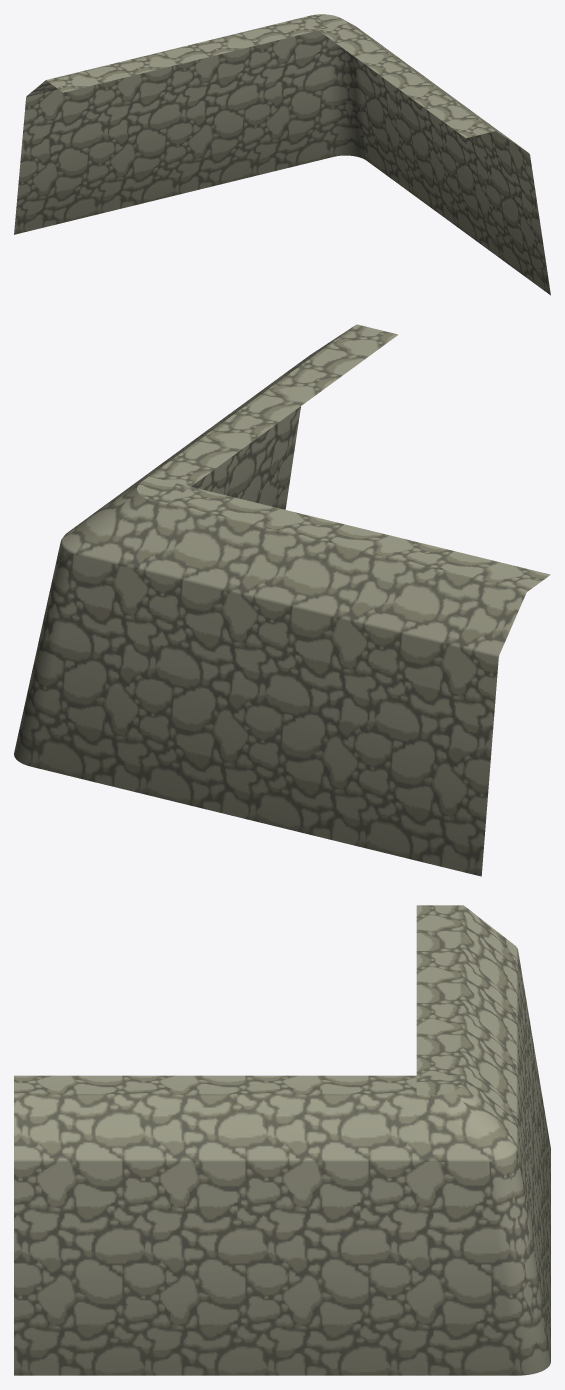
Rendered from NNJ0510071.fbx.
The picture shows the model from 3 angles, top to bottom: view 1: azimuth 30°, elevation 25°; view 2: azimuth 150°, elevation 25°; view 3: azimuth 270°, elevation 25°; orthographic projection. The views are drawn at different scales.
Visible parts, largest first — view 1: smNNJ0510071; view 2: smNNJ0510071; view 3: smNNJ0510071.
Part boxes in pixels (left/top/right/bottom): smNNJ0510071: left=14, top=14, right=550, bottom=295; smNNJ0510071: left=14, top=324, right=550, bottom=876; smNNJ0510071: left=14, top=905, right=550, bottom=1375.
Size of the model in its own units: 369 by 184 by 369.
1 material, 1 textured.
